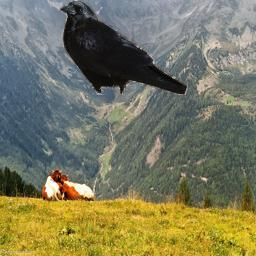Crow: (58, 0, 188, 95)
